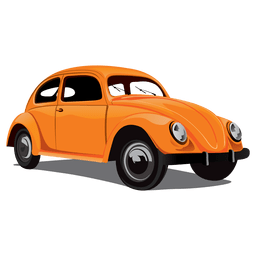car: (6, 66, 251, 190)
